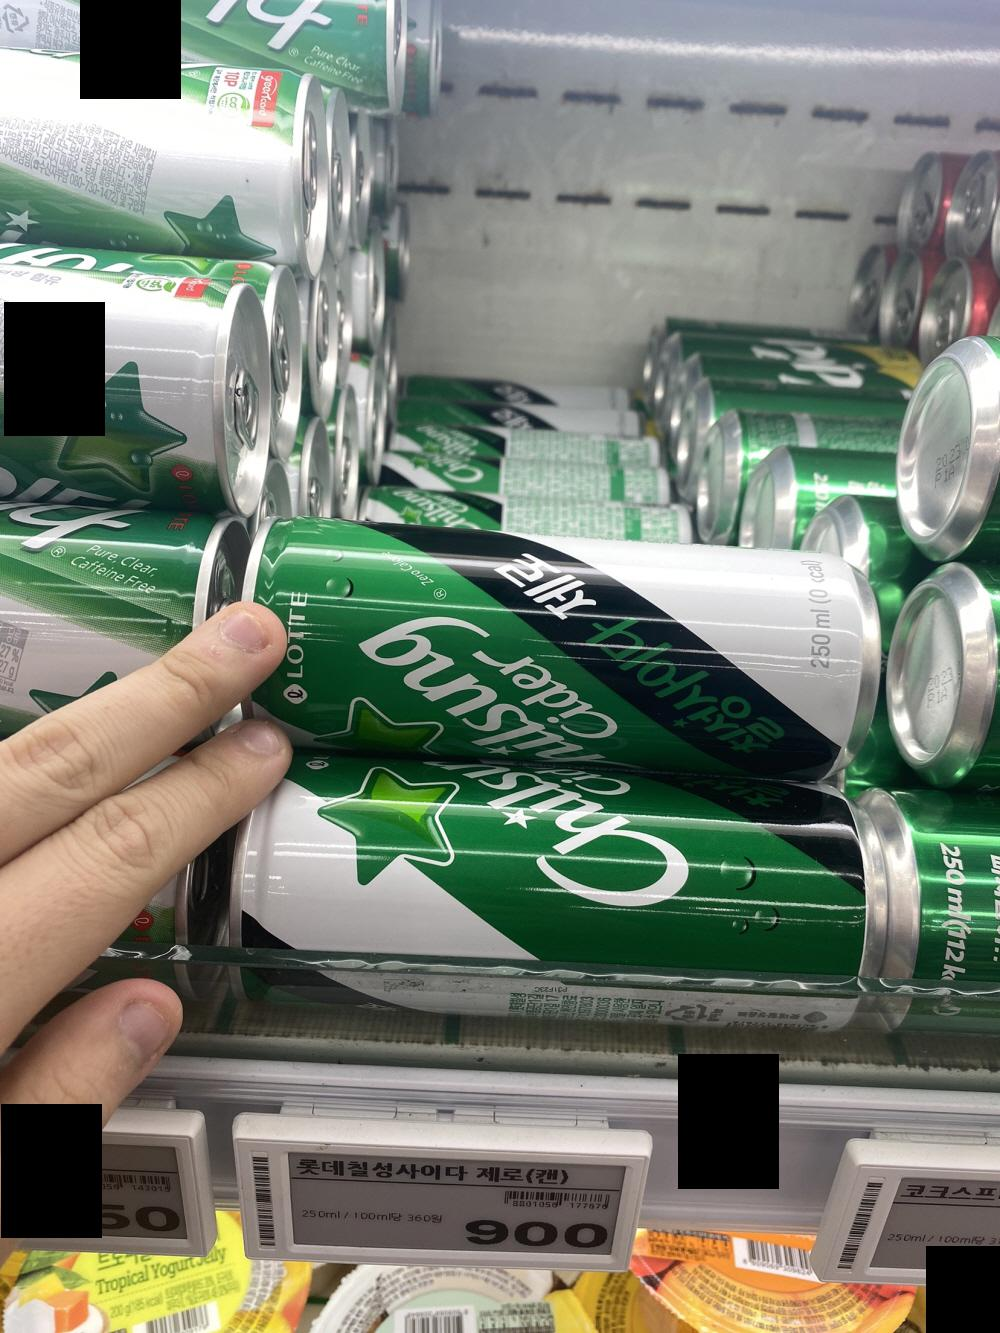chilsungcider_zero: (255, 517, 888, 797)
